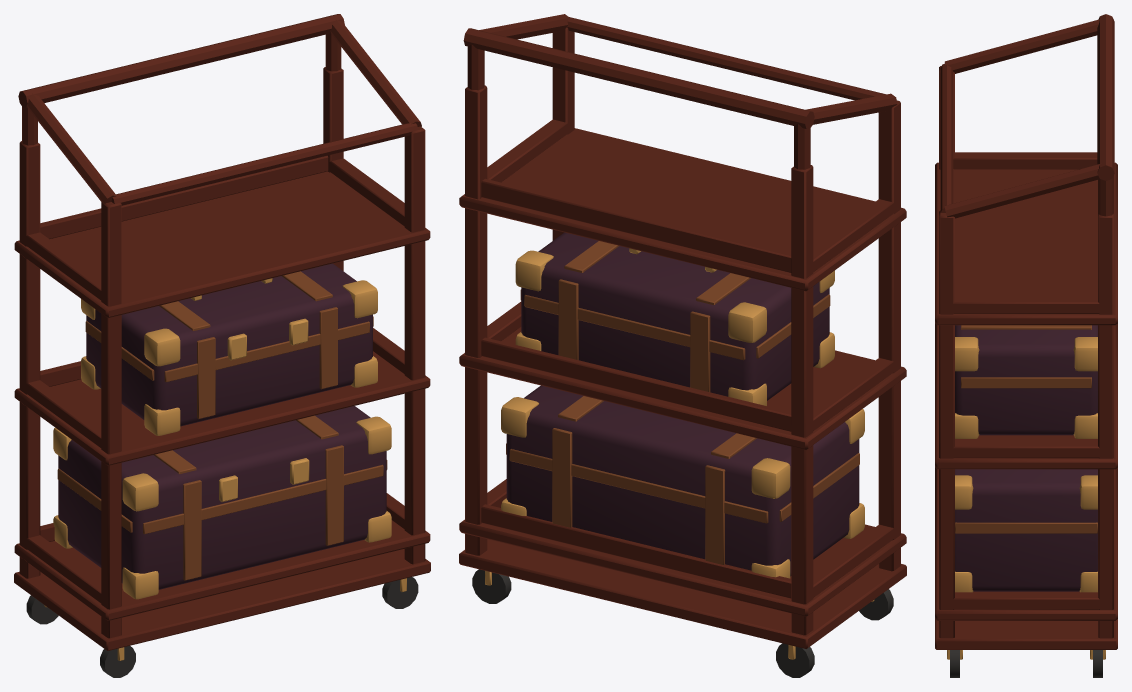
Rendered from LuggageRack.glb.
The picture shows the model from 3 angles, left to right: view 1: azimuth 30°, elevation 25°; view 2: azimuth 150°, elevation 25°; view 3: azimuth 270°, elevation 25°; orthographic projection. The views are drawn at different scales.
Visible parts, largest first — view 1: LuggageRack_Frame, LuggageRack_Case1_Body, LuggageRack_Case2_Body, LuggageRack_Case1_Straps, LuggageRack_Case2_Straps, LuggageRack_Case1_Brass, LuggageRack_Case2_Brass, LuggageRack_Wheels; view 2: LuggageRack_Frame, LuggageRack_Case1_Body, LuggageRack_Case2_Body, LuggageRack_Case1_Straps, LuggageRack_Case2_Straps, LuggageRack_Case1_Brass, LuggageRack_Case2_Brass, LuggageRack_Wheels; view 3: LuggageRack_Frame, LuggageRack_Case1_Body, LuggageRack_Case2_Body, LuggageRack_Case2_Brass, LuggageRack_Case2_Straps, LuggageRack_Case1_Brass, LuggageRack_Case1_Straps, LuggageRack_Wheels.
Boxes of the visible parts, x1=… form: LuggageRack_Frame: x1=14, y1=14, x2=430, y2=650; LuggageRack_Case1_Body: x1=58, y1=406, x2=386, y2=589; LuggageRack_Case2_Body: x1=86, y1=263, x2=372, y2=426; LuggageRack_Case1_Straps: x1=57, y1=415, x2=387, y2=580; LuggageRack_Case2_Straps: x1=85, y1=271, x2=373, y2=418; LuggageRack_Case1_Brass: x1=53, y1=416, x2=391, y2=599; LuggageRack_Case2_Brass: x1=81, y1=278, x2=377, y2=435; LuggageRack_Wheels: x1=26, y1=577, x2=418, y2=677; LuggageRack_Frame: x1=459, y1=14, x2=906, y2=648; LuggageRack_Case1_Body: x1=506, y1=385, x2=859, y2=576; LuggageRack_Case2_Body: x1=521, y1=232, x2=829, y2=400; LuggageRack_Case1_Straps: x1=506, y1=396, x2=859, y2=564; LuggageRack_Case2_Straps: x1=520, y1=241, x2=830, y2=392; LuggageRack_Case1_Brass: x1=501, y1=397, x2=864, y2=578; LuggageRack_Case2_Brass: x1=515, y1=248, x2=834, y2=405; LuggageRack_Wheels: x1=472, y1=569, x2=893, y2=677; LuggageRack_Frame: x1=935, y1=14, x2=1117, y2=649; LuggageRack_Case1_Body: x1=955, y1=469, x2=1097, y2=591; LuggageRack_Case2_Body: x1=955, y1=325, x2=1097, y2=435; LuggageRack_Case2_Brass: x1=955, y1=337, x2=1097, y2=438; LuggageRack_Case2_Straps: x1=961, y1=325, x2=1091, y2=388; LuggageRack_Case1_Brass: x1=955, y1=475, x2=1097, y2=592; LuggageRack_Case1_Straps: x1=955, y1=522, x2=1097, y2=533; LuggageRack_Wheels: x1=950, y1=650, x2=1102, y2=677.
Bounding box in the file's own units: 0.92 × 1.44 × 0.46.
